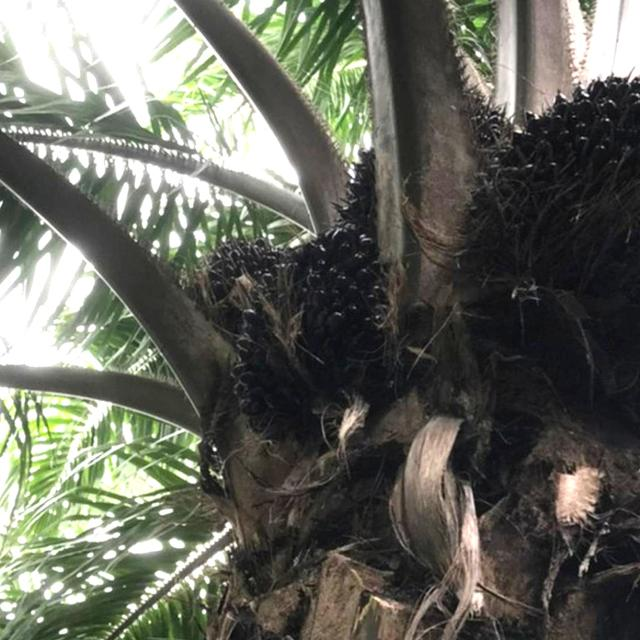almost: (467, 72, 640, 349), (233, 222, 394, 432), (201, 232, 286, 319)
